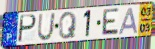1: (82, 8, 92, 39)
A: (118, 7, 140, 36)
E: (100, 7, 120, 36)
P: (17, 14, 38, 44)
Q: (58, 11, 78, 40)
U: (36, 12, 57, 42)
